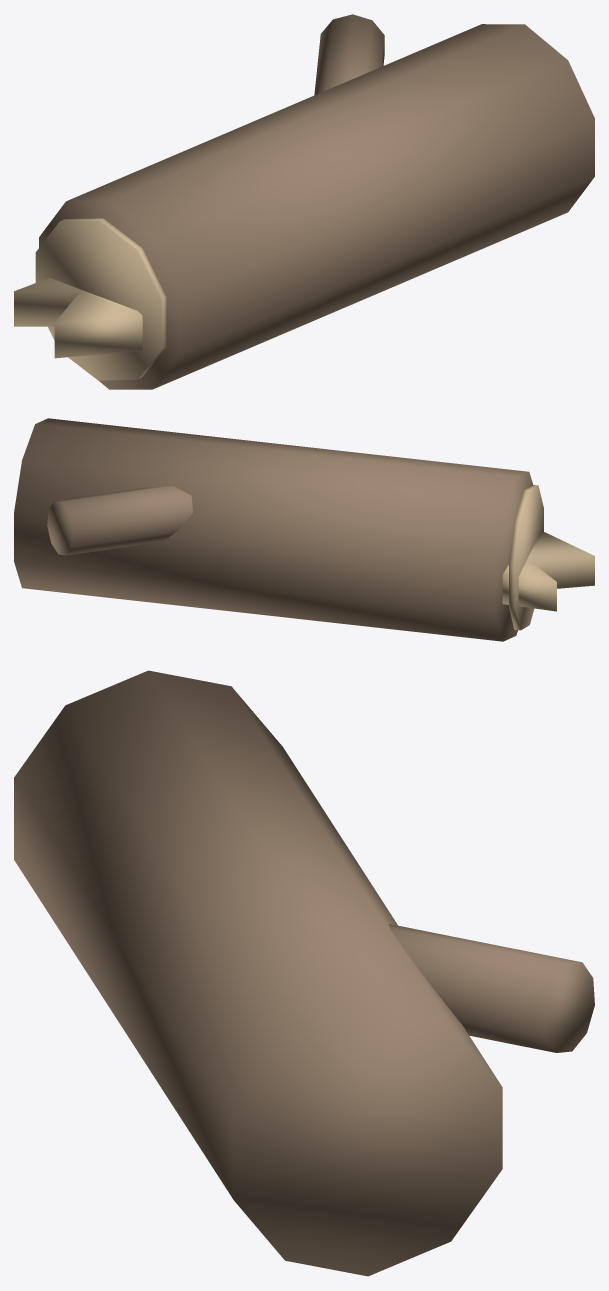
File: obstacle_log.glb
3 views of the same model, one above another, from view 1: azimuth 30°, elevation 25°; view 2: azimuth 150°, elevation 25°; view 3: azimuth 270°, elevation 25° (orthographic). The views are drawn at different scales.
Visible parts, largest first — view 1: Fallen trunk, Broken pale end, Splintered end, Broken branch; view 2: Fallen trunk, Broken branch, Splintered end, Broken pale end; view 3: Fallen trunk, Broken branch.
Part boxes in pixels (bbox=[...]): Fallen trunk: bbox=[39, 24, 594, 389]; Broken pale end: bbox=[35, 218, 166, 380]; Splintered end: bbox=[14, 278, 142, 358]; Broken branch: bbox=[314, 14, 384, 95]; Fallen trunk: bbox=[14, 418, 533, 641]; Broken branch: bbox=[47, 486, 192, 555]; Splintered end: bbox=[502, 532, 594, 611]; Broken pale end: bbox=[509, 485, 543, 630]; Fallen trunk: bbox=[14, 670, 502, 1276]; Broken branch: bbox=[388, 924, 594, 1052].
Size of the model in its own units: 2.63 by 0.8 by 1.59.
